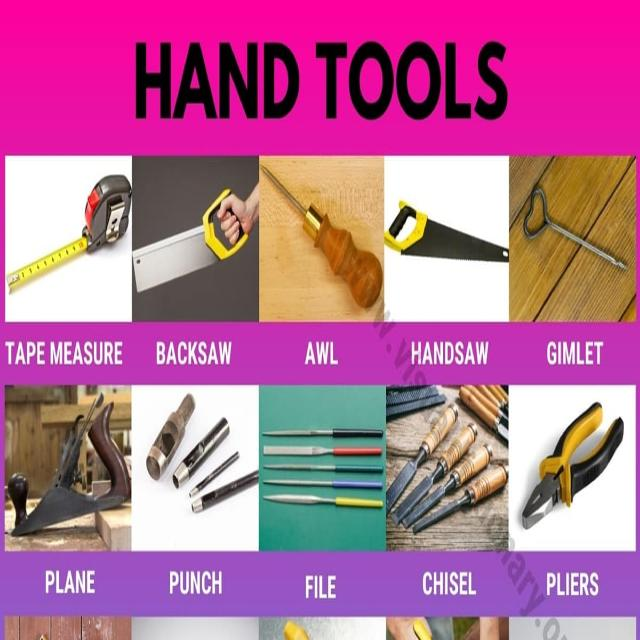Screwdriver: (262, 166, 382, 307)
